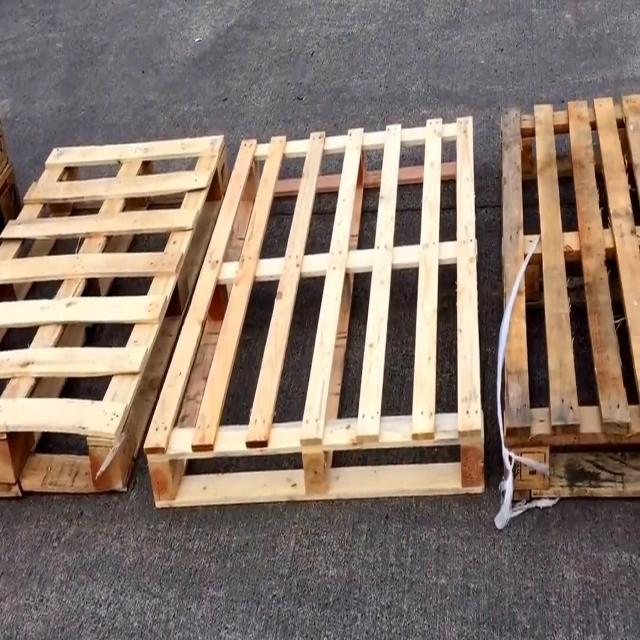Palette: (147, 93, 489, 516), (0, 126, 233, 500), (502, 95, 640, 512)
